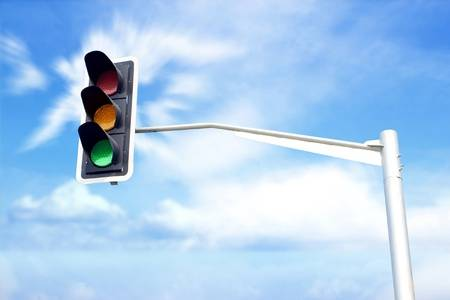traffic light: (66, 44, 148, 194)
